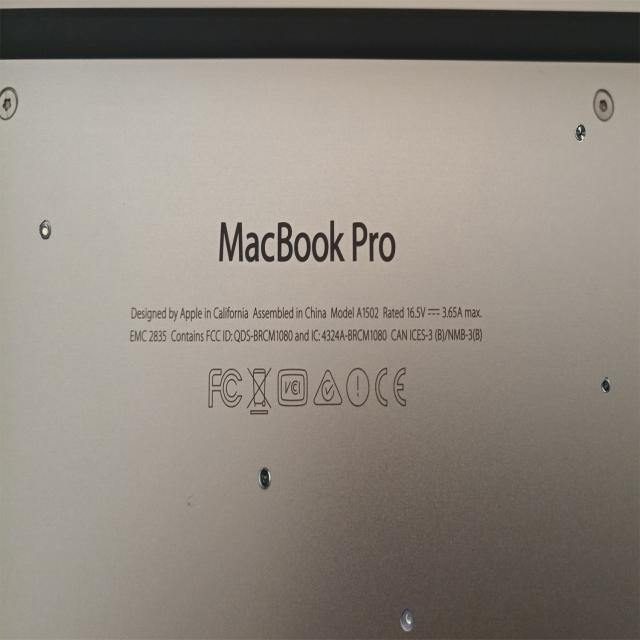lock: (257, 466, 271, 490), (574, 123, 585, 142), (601, 377, 611, 393)
missing_screw: (400, 607, 414, 631), (39, 219, 51, 239)
